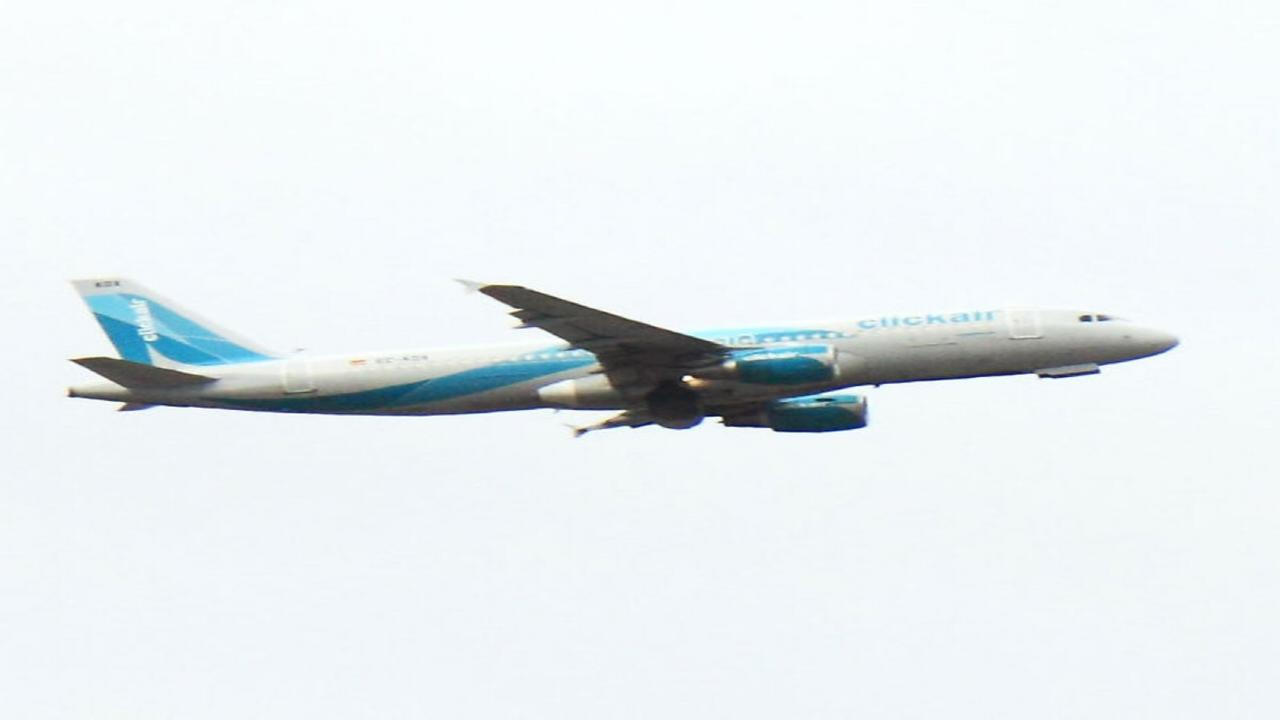Airplane: (40, 259, 1195, 451)
